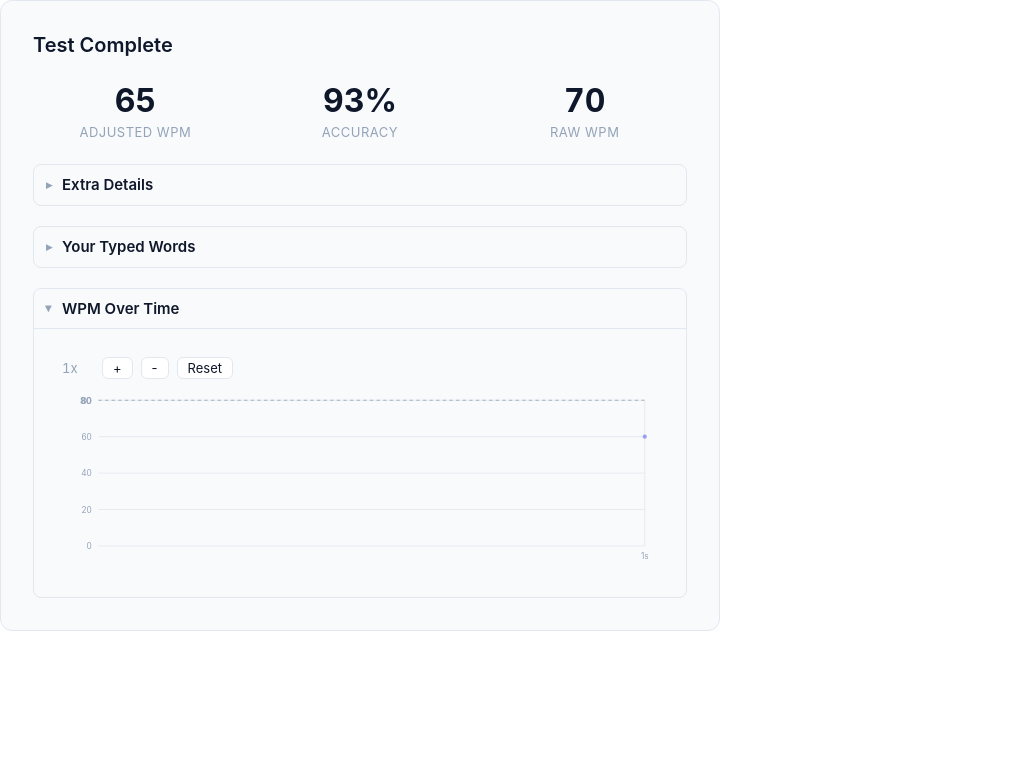
Test: ResultsDisplay › expands and collapses the extra details
Click the button "▸ Extra Details".
click(108, 184)  # box [34,165,686,205]
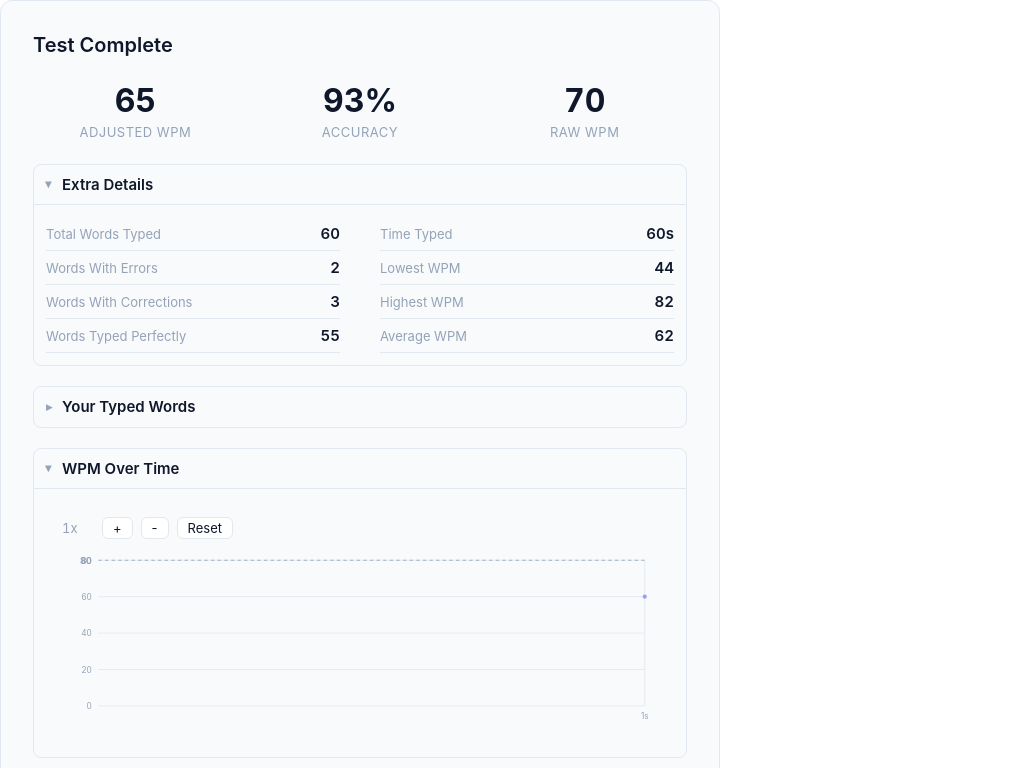
Expected: the text "Total Words Typed" is shown, [46,226,161,242]
Click the button "▸ Extra Details".
click(108, 184)  # box [34,165,686,205]
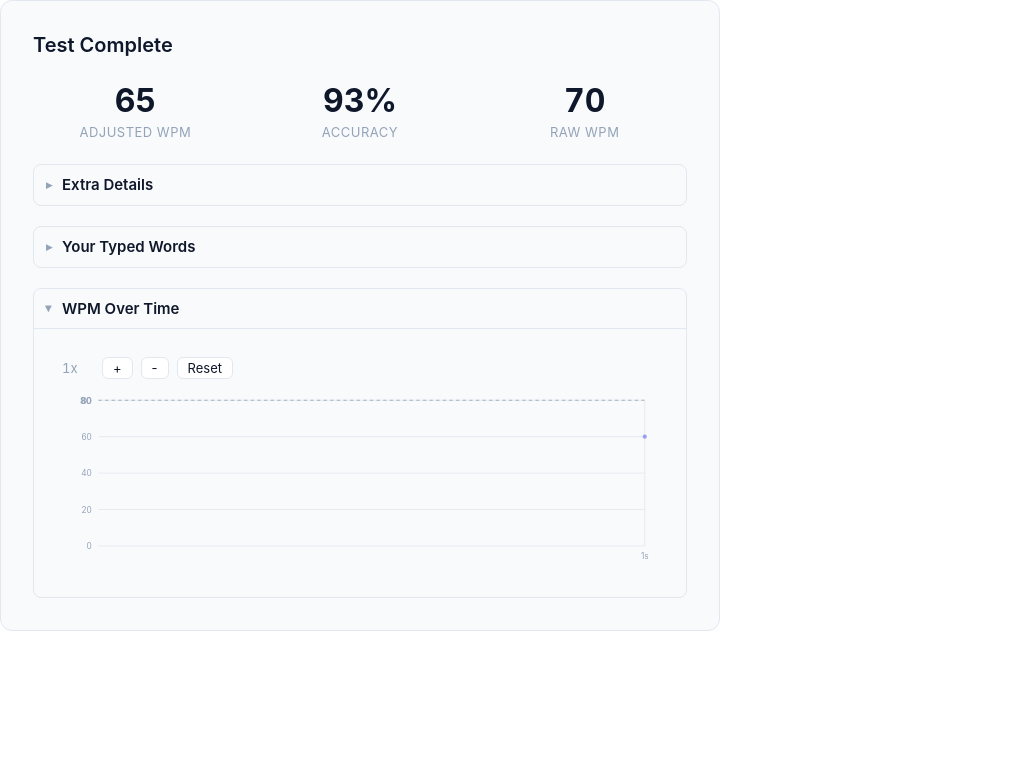
Expected: the text "Total Words Typed" is gone
